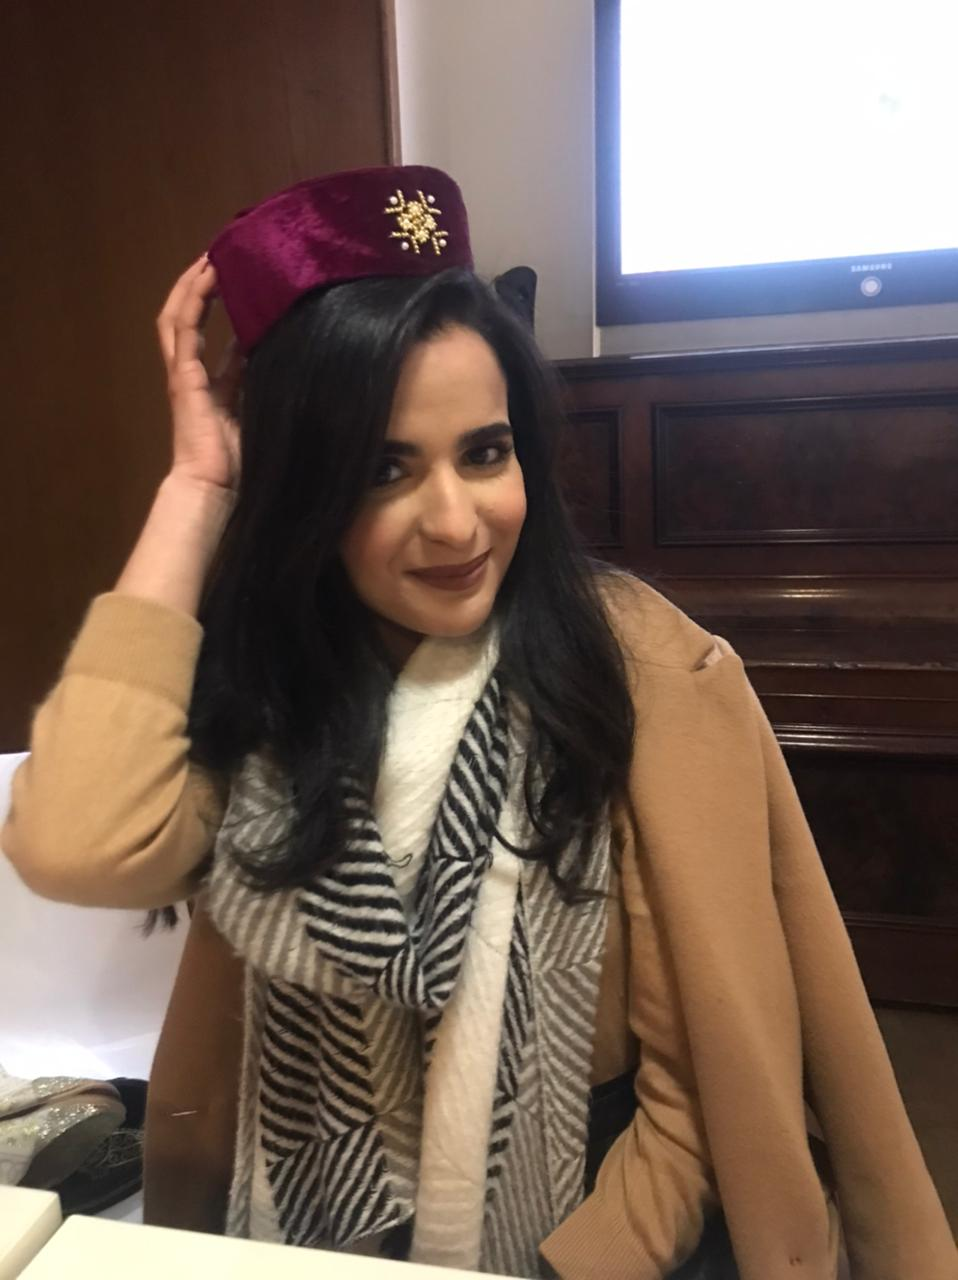chachia: (186, 164, 513, 326)
